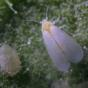whitefly: (24, 8, 83, 71)
